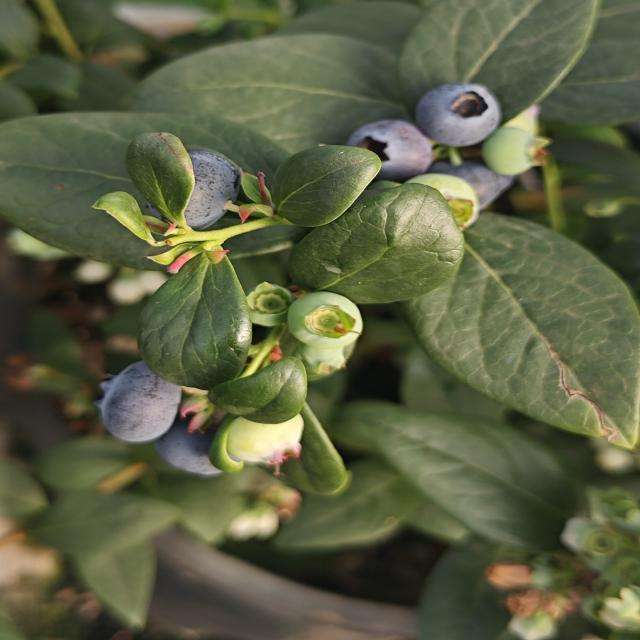ripe: (138, 138, 245, 232), (92, 359, 184, 446), (412, 80, 504, 150), (149, 409, 236, 483), (344, 118, 435, 182), (431, 157, 515, 224)
